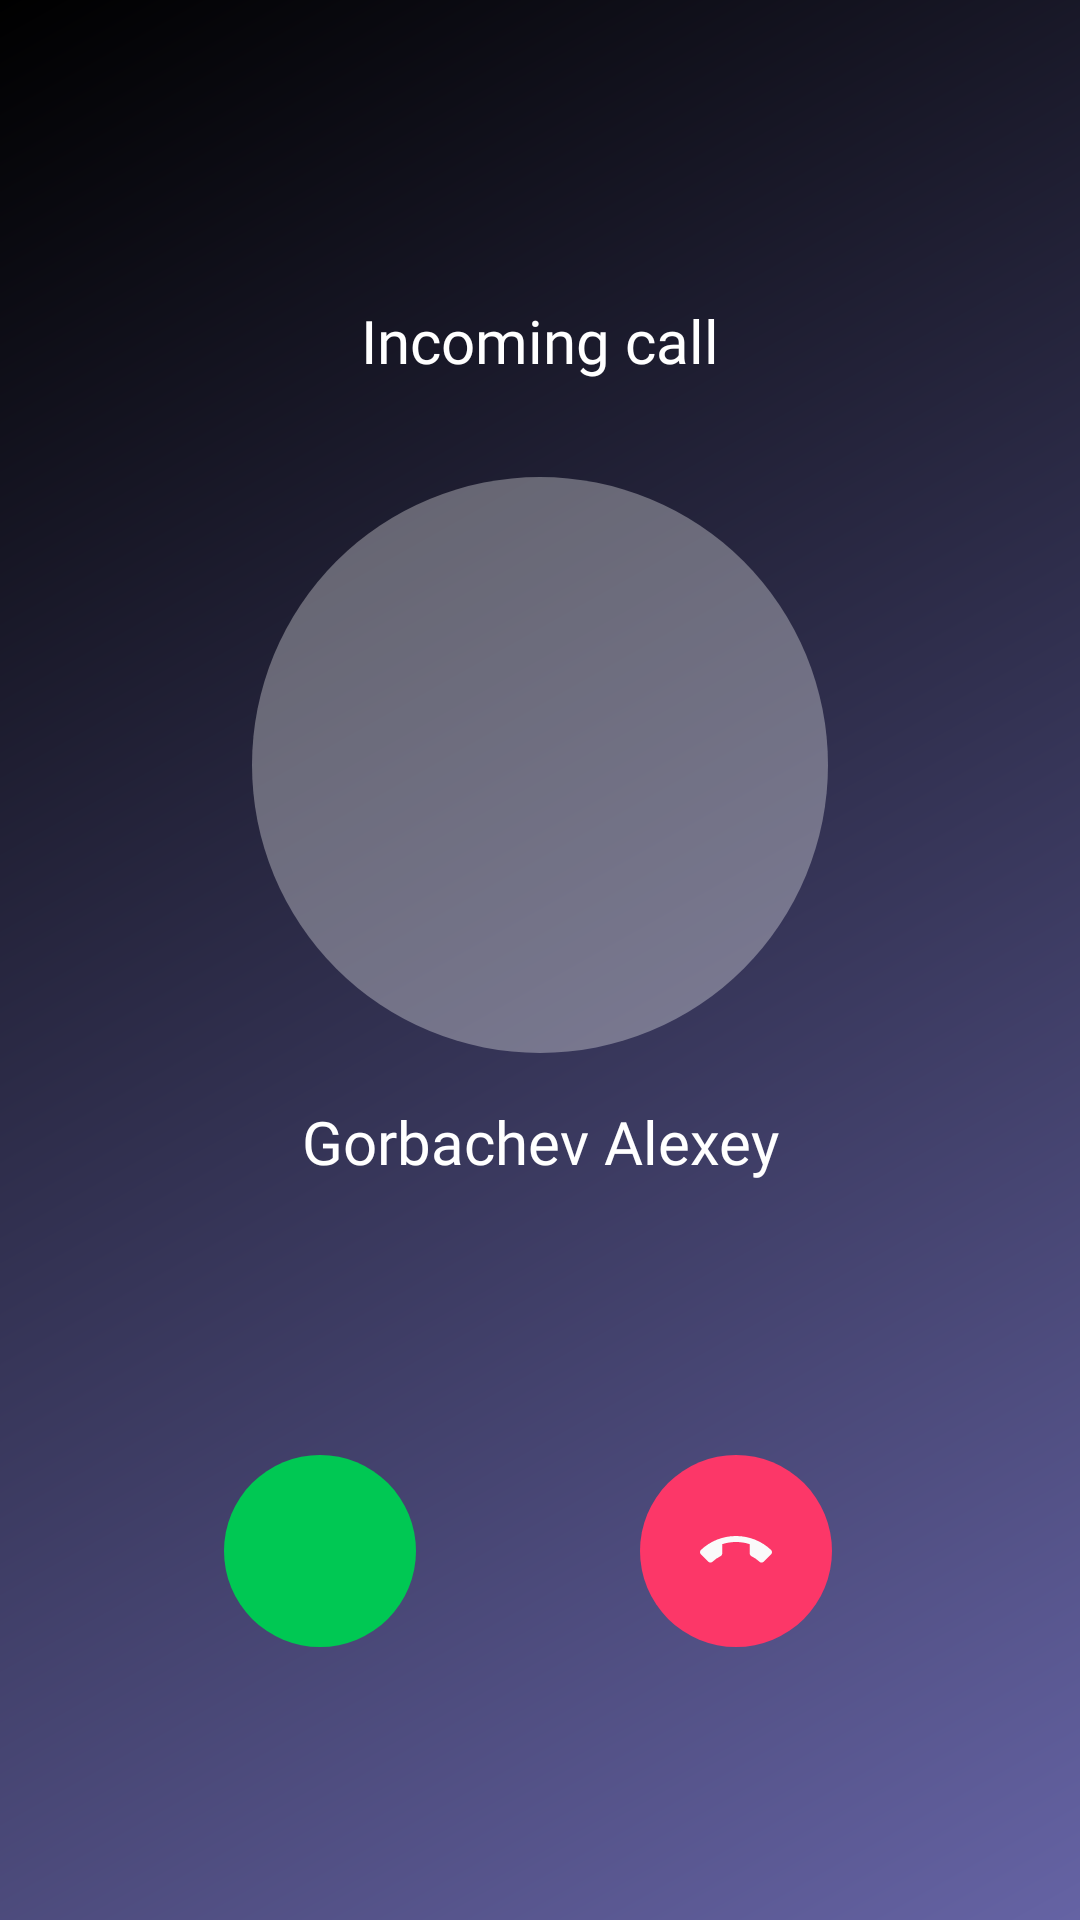

Icons on this 1080x1920 Android screen, each with the point to tap as (x=x, y=y):
call end: (x=736, y=1551)
